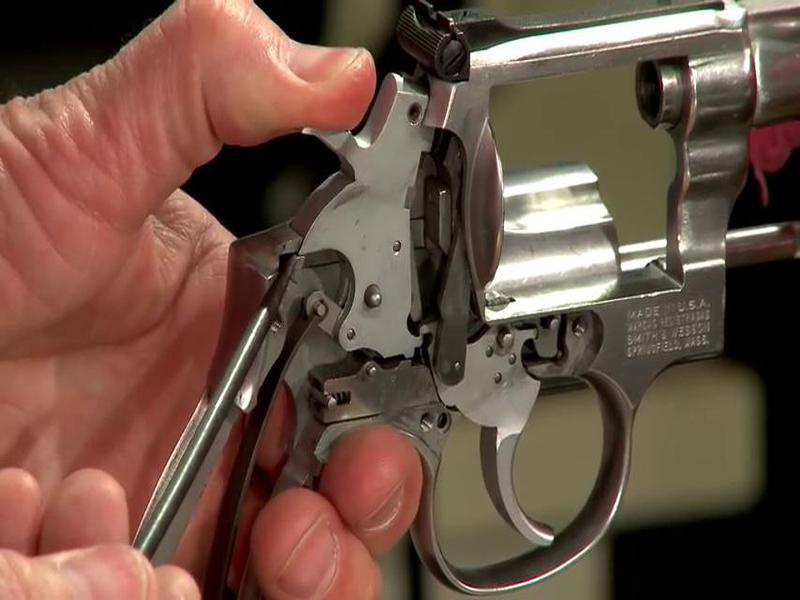Revolver: (119, 8, 800, 556)
